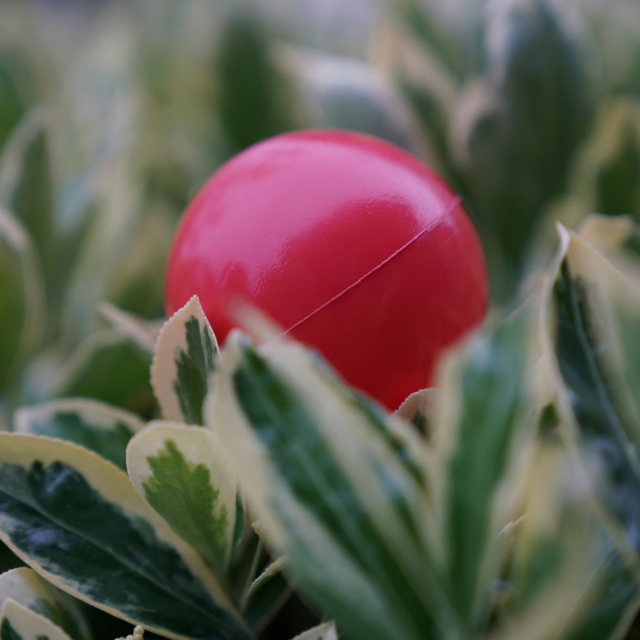Ball: (167, 129, 493, 429)
